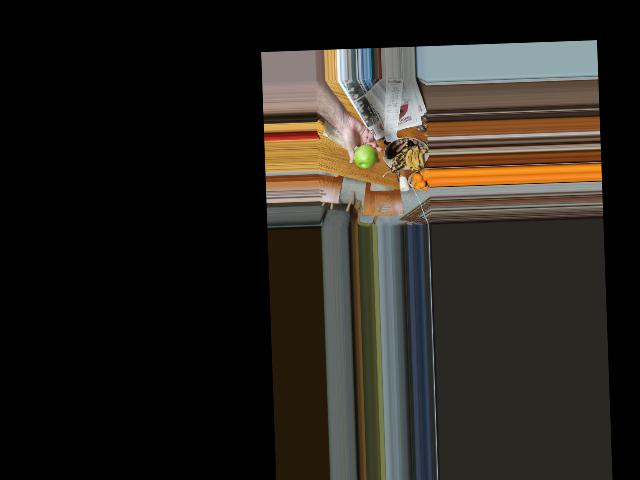apple: (353, 143, 377, 168)
